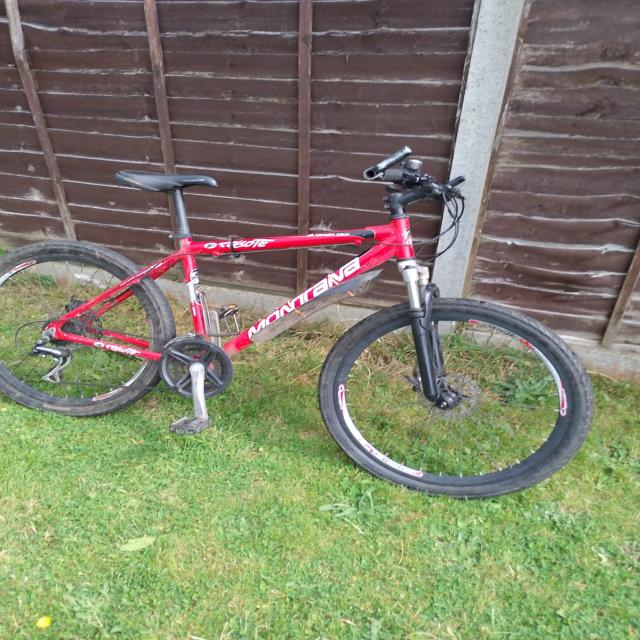bicycle: (5, 138, 640, 506)
